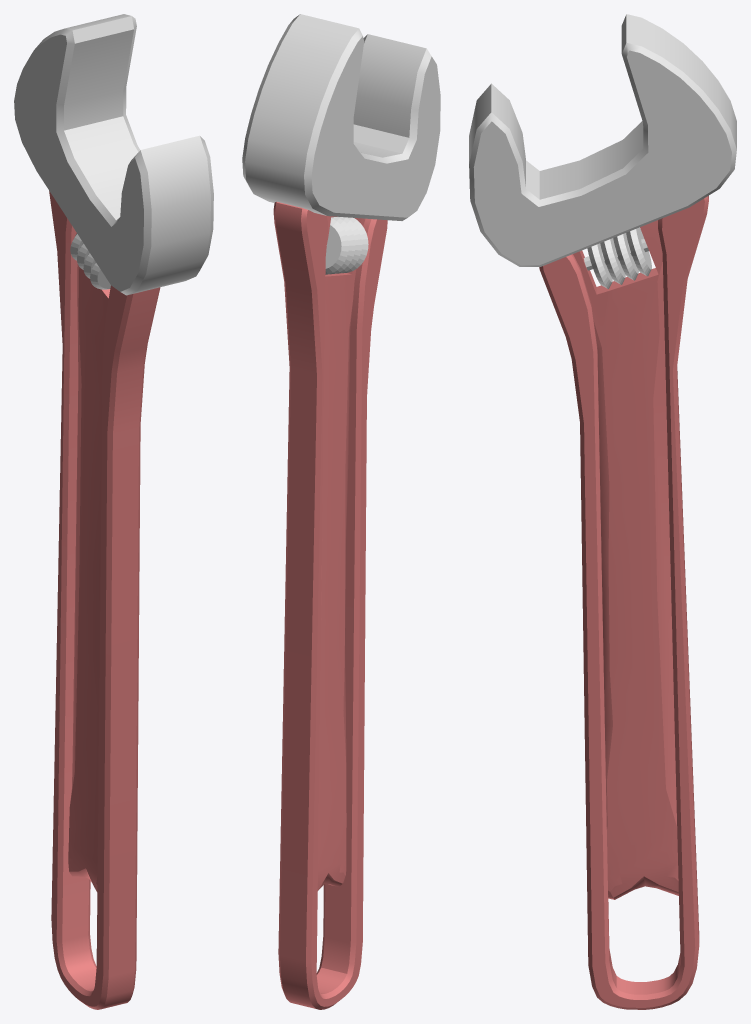
Rendered from GAECHNII.fbx.
The picture shows the model from 3 angles, left to right: view 1: azimuth 30°, elevation 25°; view 2: azimuth 150°, elevation 25°; view 3: azimuth 270°, elevation 25°; orthographic projection.
Visible parts, largest first — view 1: Plane.002; view 2: Plane.002; view 3: Plane.002.
Boxes of the visible parts, x1,y1,x2,y2 form: Plane.002: (14,14,213,1009); Plane.002: (242,14,440,1009); Plane.002: (469,14,736,1009).
Size of the model in its own units: 33.61 by 451 by 112.
